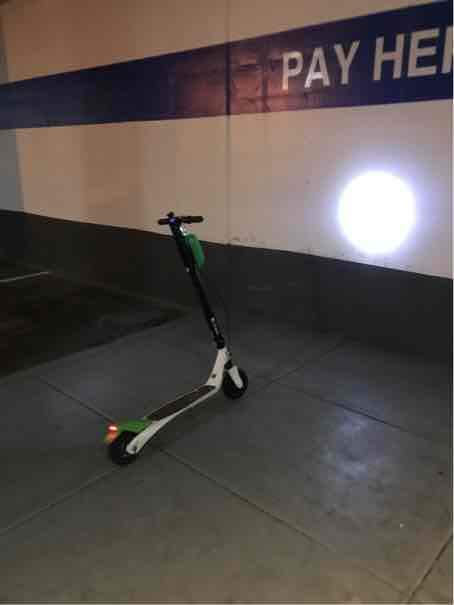scooter: (93, 195, 256, 489)
